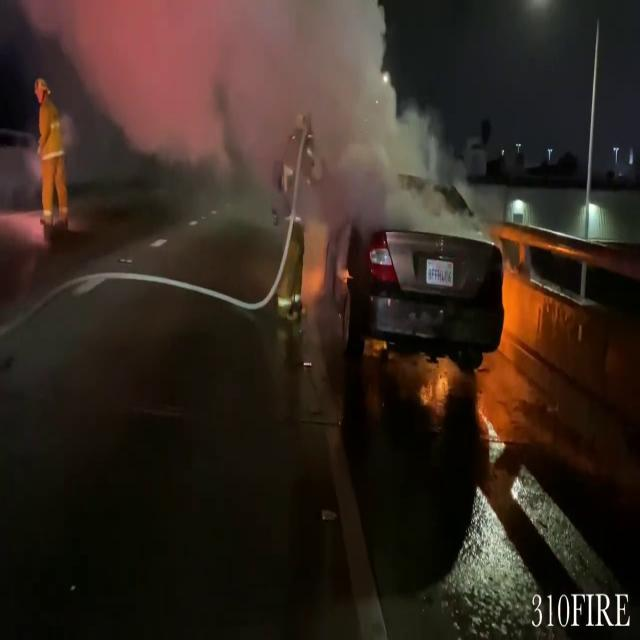Smoke: (37, 0, 446, 188)
